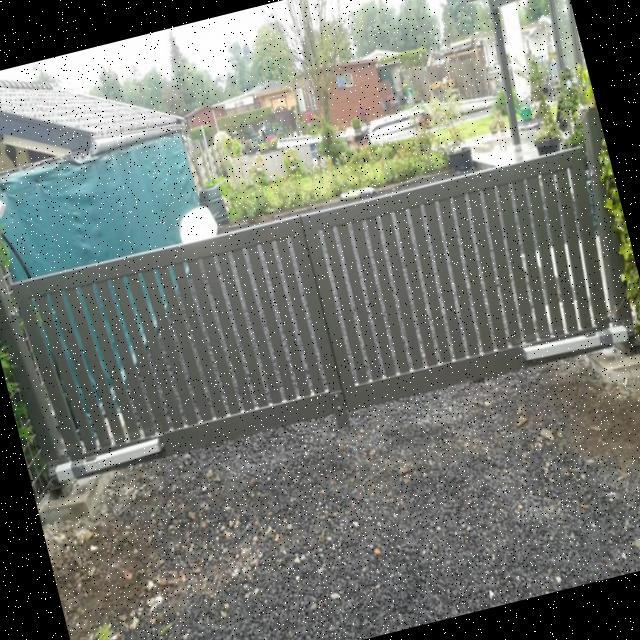fence line: (5, 144, 619, 486)
